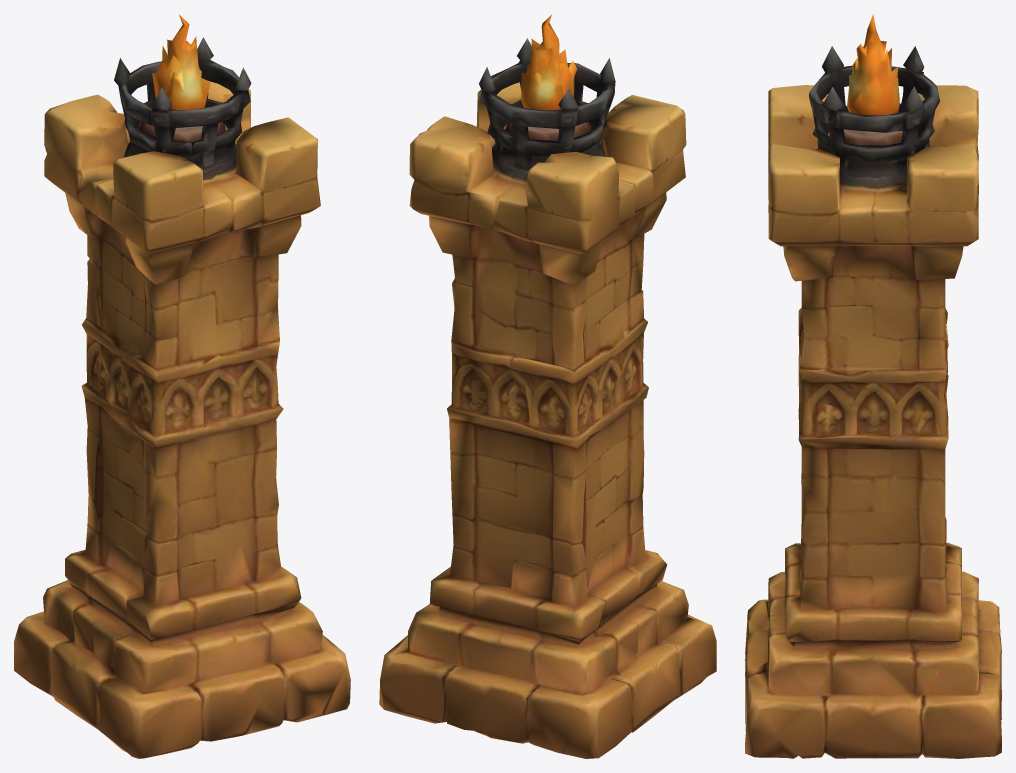
Rendered from fortress-pillar.glb.
3 views of the same model, side by side, from view 1: azimuth 30°, elevation 25°; view 2: azimuth 150°, elevation 25°; view 3: azimuth 270°, elevation 25° (orthographic).
Parts seen in each view (by area): view 1: fortress-pillar; view 2: fortress-pillar; view 3: fortress-pillar.
Boxes of the visible parts, bbox=[...] form: fortress-pillar: bbox=[14, 15, 350, 758]; fortress-pillar: bbox=[379, 14, 716, 758]; fortress-pillar: bbox=[745, 14, 1001, 758].
Bounding box in the file's own units: 3.73 × 11 × 3.71.
1 material, 1 textured.
